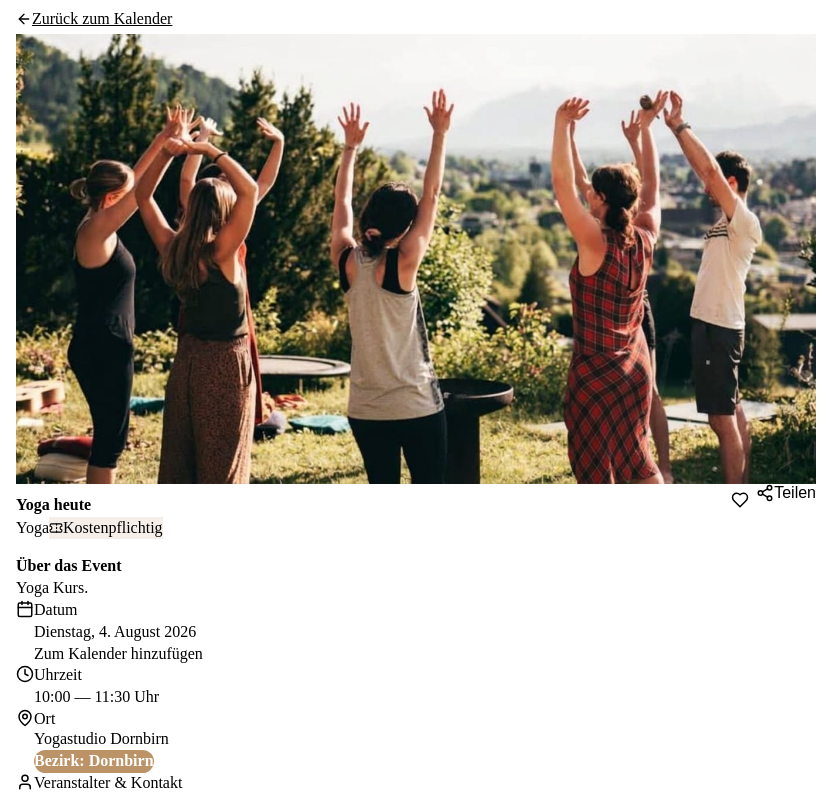
Test: EventDetailPage — add to calendar › tells a signed-in user when the download could not start
The image size is (833, 795).
What coordinates should you click on to do the following:
click the button with test id "add-to-calendar-link"
I would click on:
 (118, 654)
Its box is [34,643,203,665].
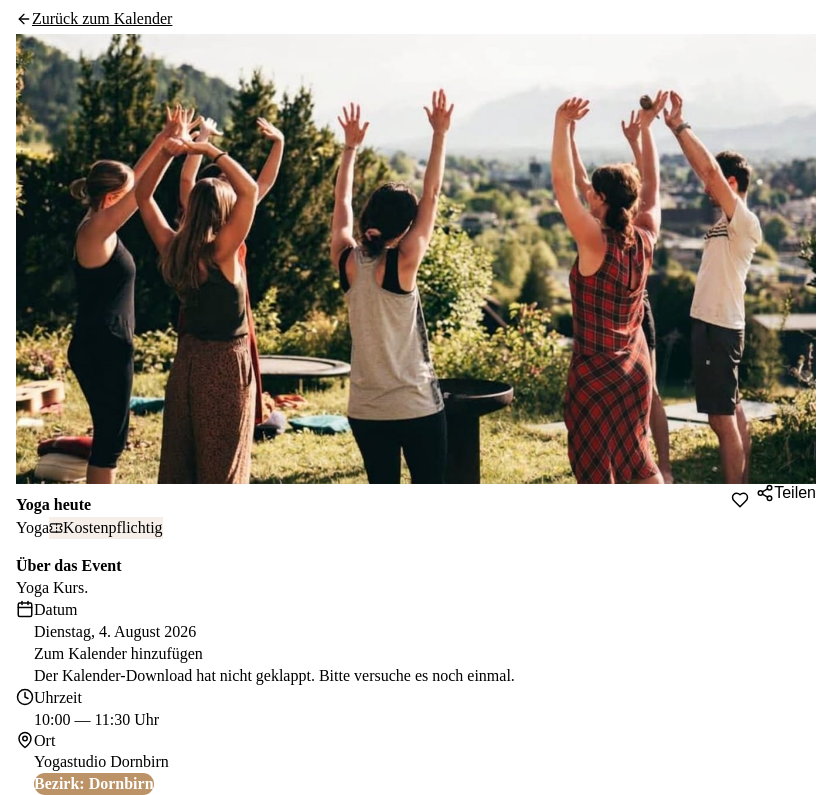
Check: the message "Der Kalender-Download hat nicht geklappt. Bitte versuche es noch einmal." is shown, box [34,667,515,684]
